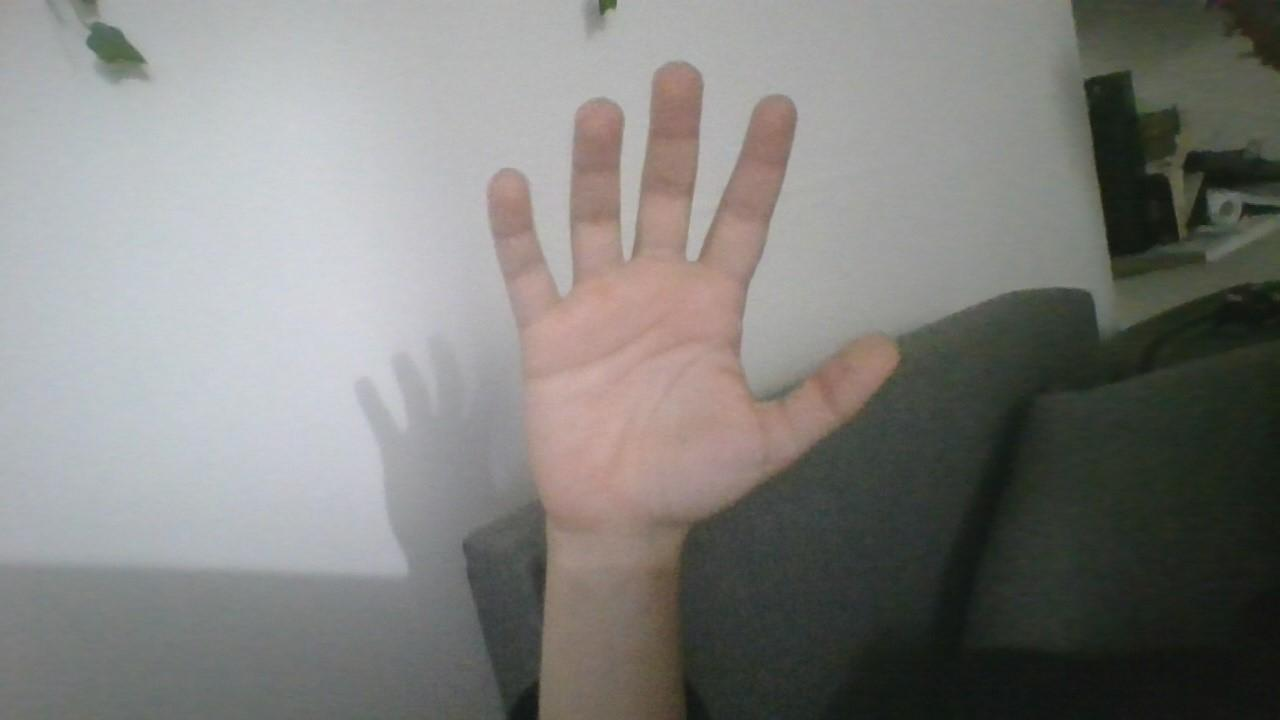hi: (465, 37, 921, 550)
